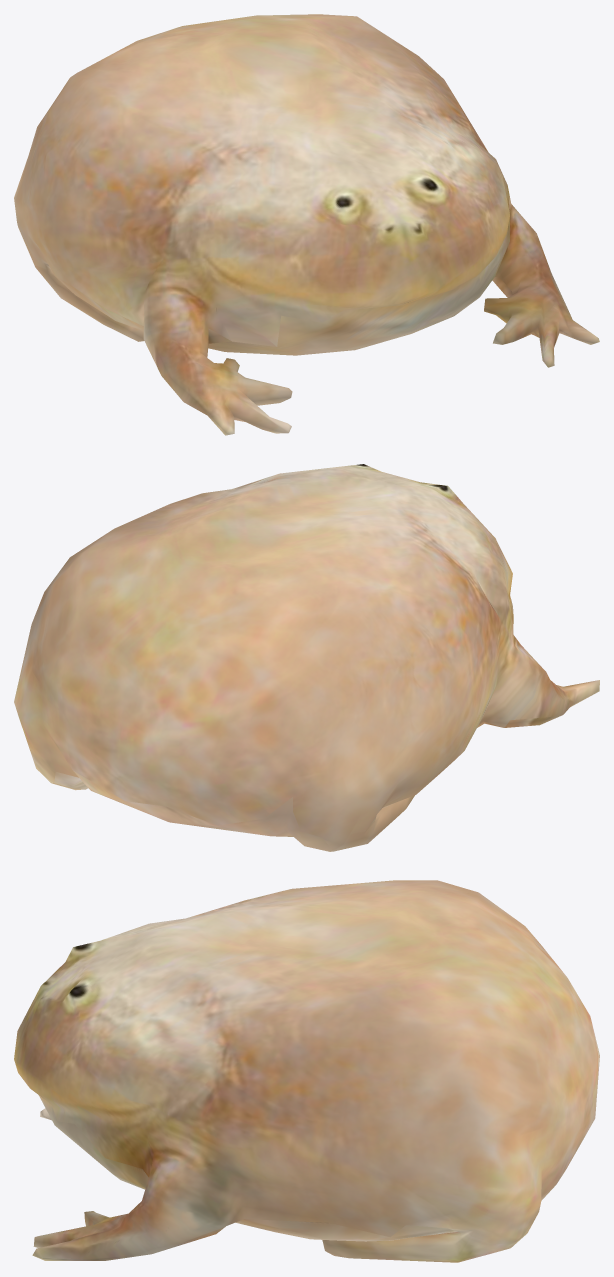
File: wednesday.glb
3 renders of one model, top to bottom at view 1: azimuth 30°, elevation 25°; view 2: azimuth 150°, elevation 25°; view 3: azimuth 270°, elevation 25°, orthographic. The views are drawn at different scales.
Parts seen in each view (by area): view 1: Group15803_0; view 2: Group15803_0; view 3: Group15803_0.
Part boxes in pixels (left/top/right/bottom): Group15803_0: left=14, top=14, right=599, bottom=435; Group15803_0: left=14, top=464, right=599, bottom=851; Group15803_0: left=14, top=880, right=599, bottom=1262.
Size of the model in its own units: 2.6 by 1.53 by 3.12.
Materials: 1 (1 with a texture image).
